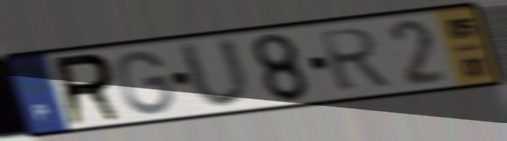2: (386, 17, 452, 89)
8: (251, 31, 311, 104)
G: (114, 49, 177, 117)
R: (50, 50, 127, 130), (315, 25, 394, 95)
U: (174, 34, 255, 112)
